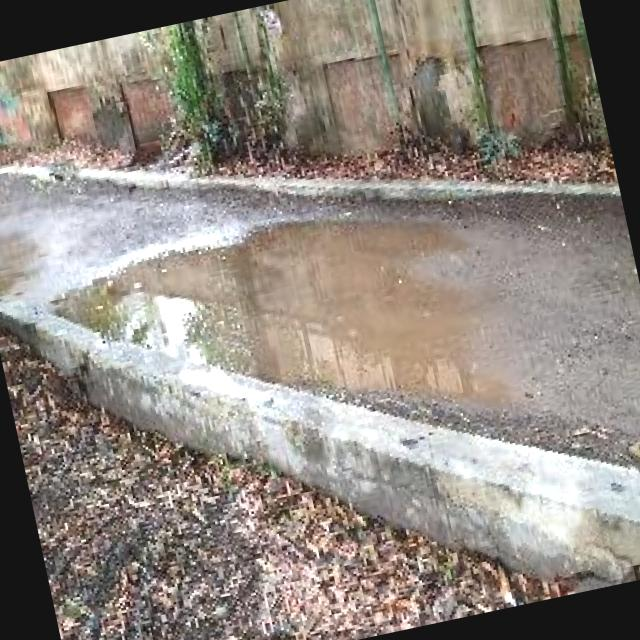stagnation: (45, 164, 475, 436)
